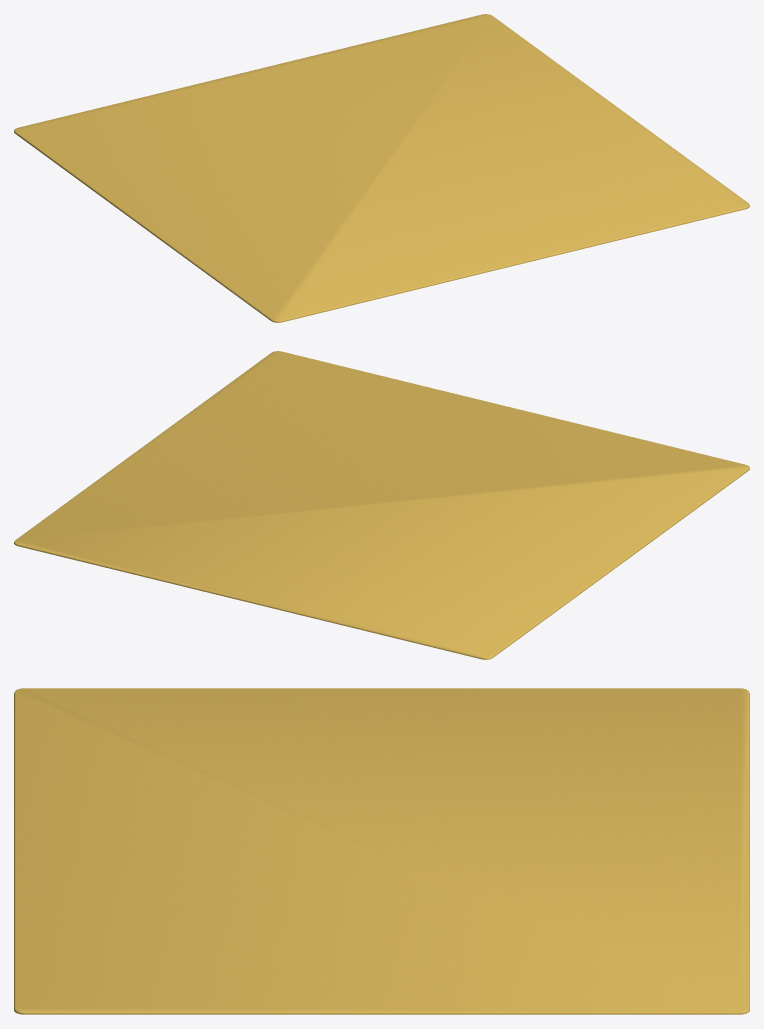
The model's file is Carpet.fbx.
3 renders of one model, top to bottom at view 1: azimuth 30°, elevation 25°; view 2: azimuth 150°, elevation 25°; view 3: azimuth 270°, elevation 25°, orthographic. The views are drawn at different scales.
Visible parts, largest first — view 1: Carpet; view 2: Carpet; view 3: Carpet.
Boxes of the visible parts, <box> form: Carpet: <box>14,14,749,322</box>; Carpet: <box>14,351,749,659</box>; Carpet: <box>14,688,749,1014</box>.
Bounding box in the file's own units: 545 × 1.96 × 522.
Materials: 1 (1 with a texture image).
